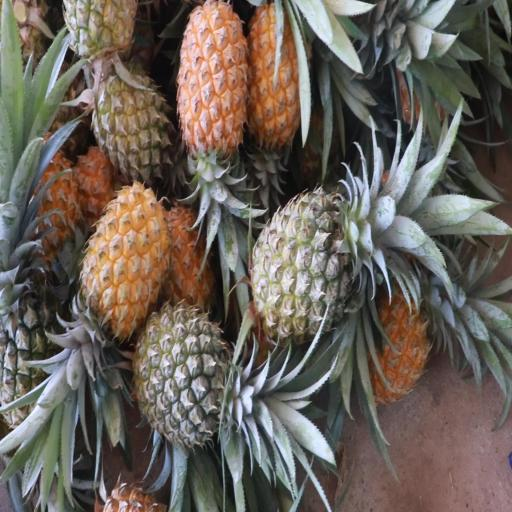Pineapple - v8 v1: (68, 182, 172, 369), (178, 0, 250, 213), (246, 0, 301, 163)
